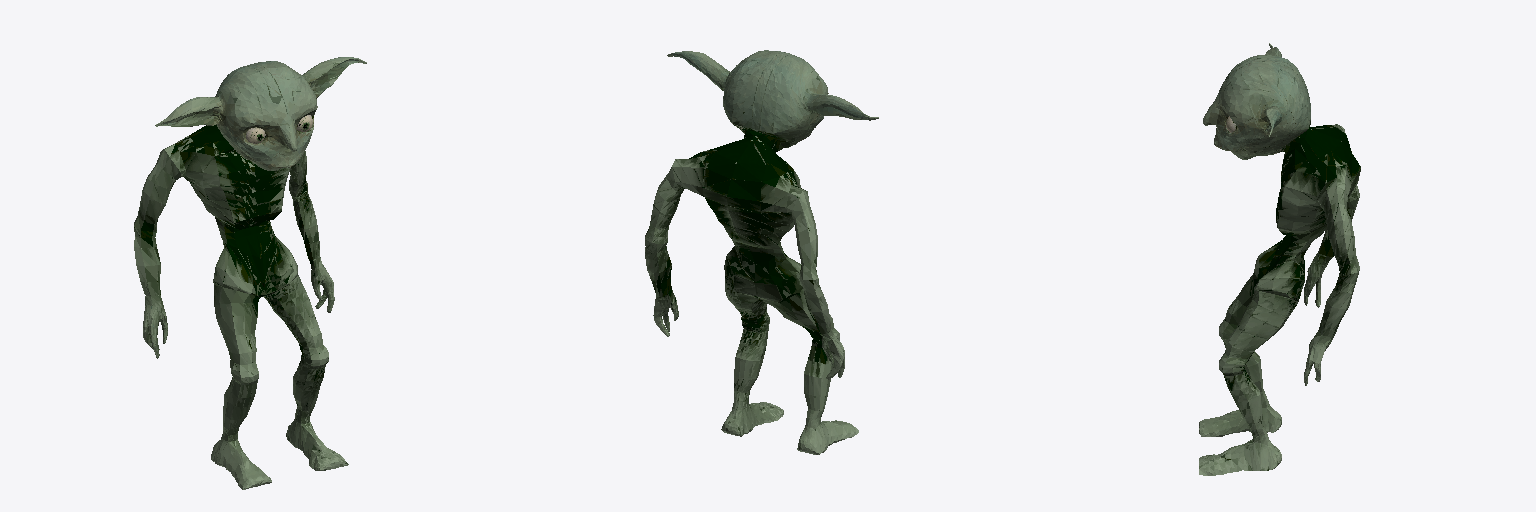
3 renders of one model, left to right at view 1: azimuth 30°, elevation 25°; view 2: azimuth 150°, elevation 25°; view 3: azimuth 270°, elevation 25°, orthographic.
Visible parts, largest first — view 1: Box2; view 2: Box2; view 3: Box2.
Part boxes in pixels (left/top/right/bottom): Box2: left=134, top=57, right=366, bottom=489; Box2: left=645, top=50, right=878, bottom=454; Box2: left=1199, top=43, right=1360, bottom=475.
Size of the model in its own units: 570 by 999 by 378.
1 materials, 1 textured.